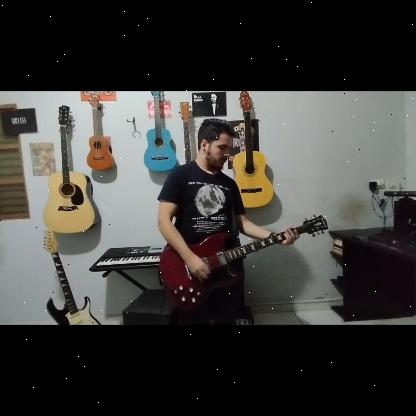acousticguitar: (43, 104, 98, 234), (232, 93, 272, 209), (144, 92, 176, 172)
guitar: (157, 214, 329, 310), (44, 226, 104, 326)
